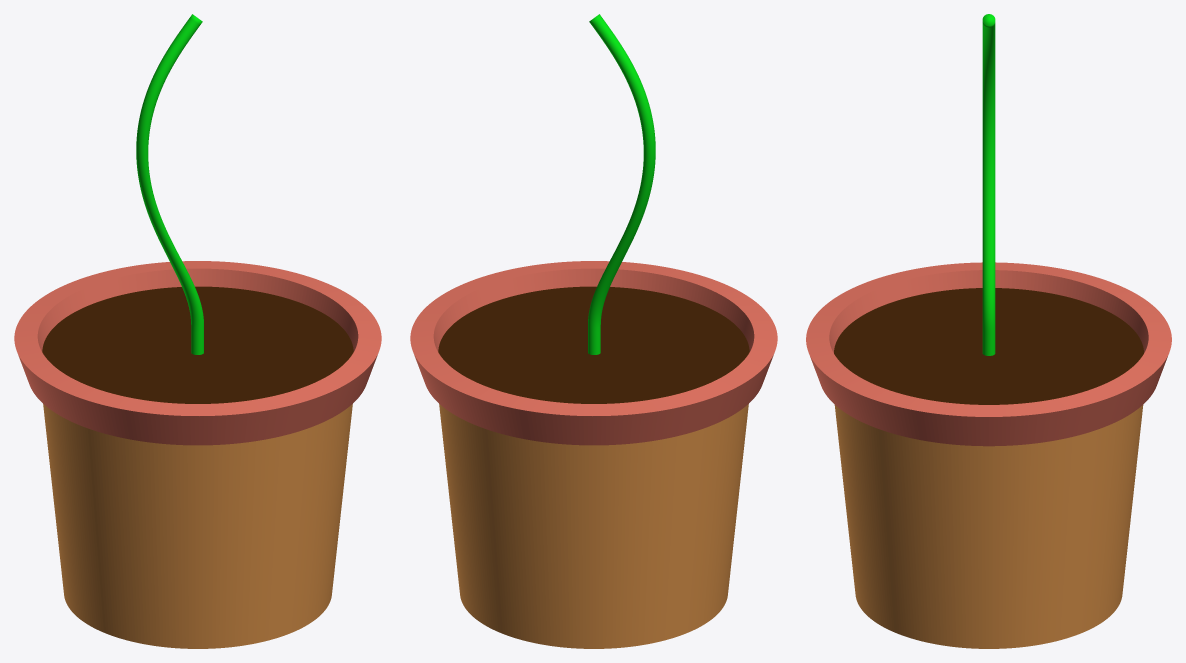
Rendered from circle_pot.glb.
3 renders of one model, left to right at view 1: azimuth 30°, elevation 25°; view 2: azimuth 150°, elevation 25°; view 3: azimuth 270°, elevation 25°, orthographic.
Parts seen in each view (by area): view 1: Cylinder.005; view 2: Cylinder.005; view 3: Cylinder.005.
Part boxes in pixels (x1,y1,x2,y2): Cylinder.005: (14,14,381,648); Cylinder.005: (410,14,777,648); Cylinder.005: (806,14,1171,648).
Bounding box in the file's own units: 2.05 × 3.56 × 2.05.
